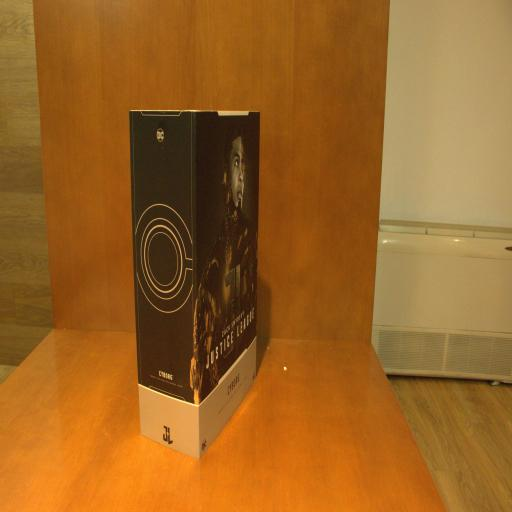Cyborg: (129, 108, 261, 460)
